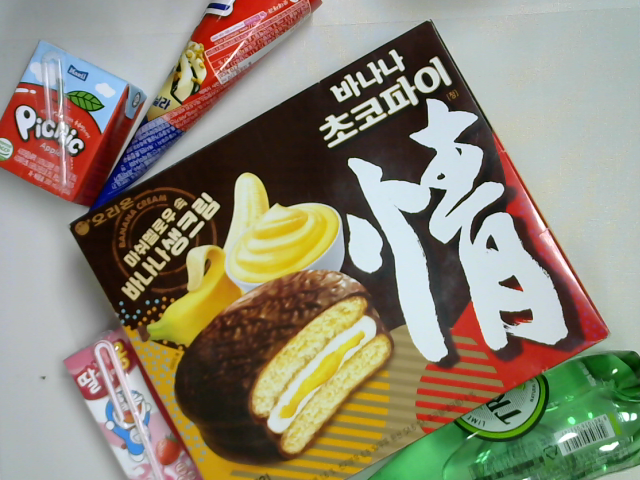Choco_Pie_Banana: (66, 15, 612, 480)
Picnic_Apple: (1, 37, 148, 213)
Strawberry_E_Mong: (53, 318, 207, 480)
Treviraim_500ml: (349, 340, 639, 480)
World_Cone_Banila: (77, 1, 325, 227)
